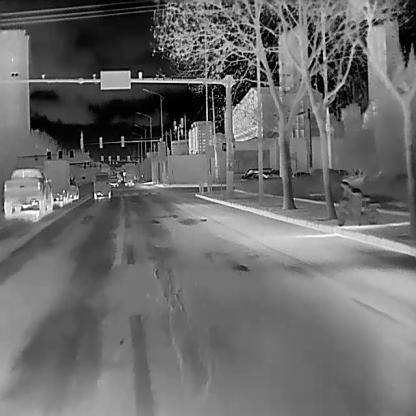car: (3, 166, 52, 220), (92, 171, 110, 199), (240, 166, 272, 178), (122, 172, 134, 186), (109, 174, 119, 188)
truck: (42, 159, 78, 207)
